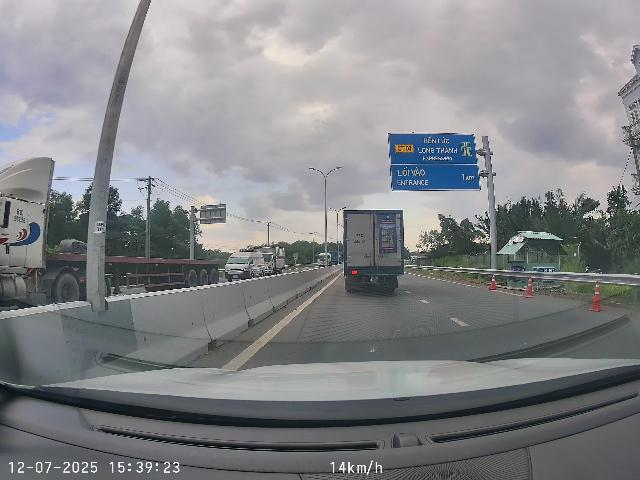437-bat-dau-duong-cao-toc: (460, 142, 472, 157)
